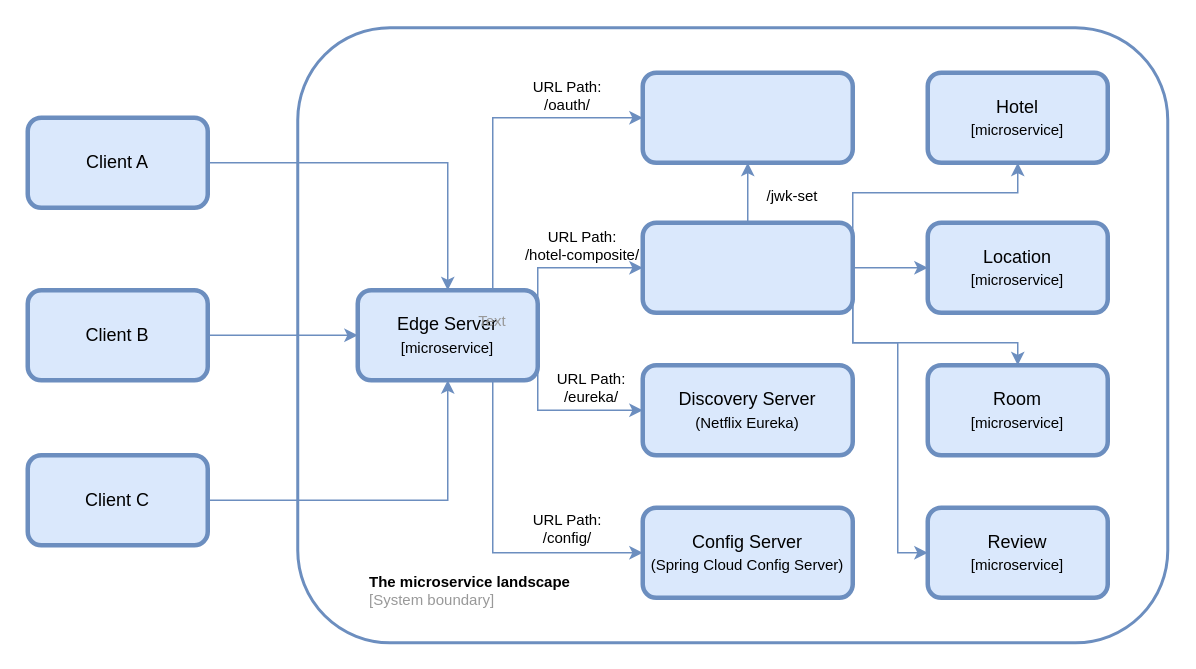
This 1196x669 diagram has some shape labels left out. The shapes that lost their labels are listed below. From the top down, each one's centre as x and y in pixels, then its label:
At (747,117): "Authorization Server (Spring Security OAuth2)".
At (747,267): "Hotel Composite [microservice]".
